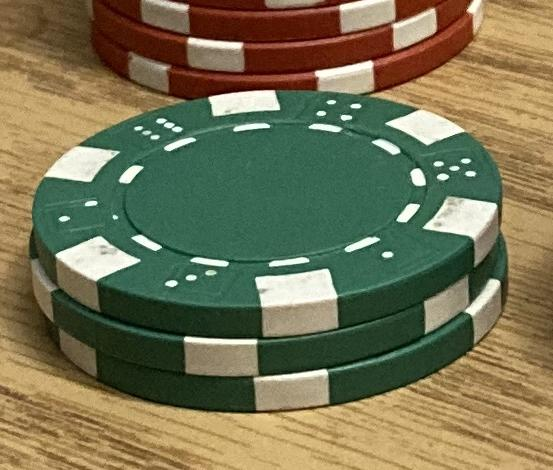Chip: (1, 1, 553, 470)
